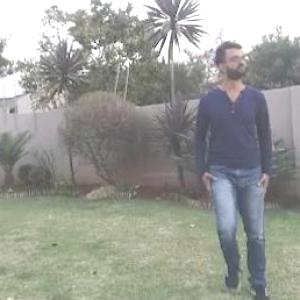follow: (189, 8, 282, 299)
